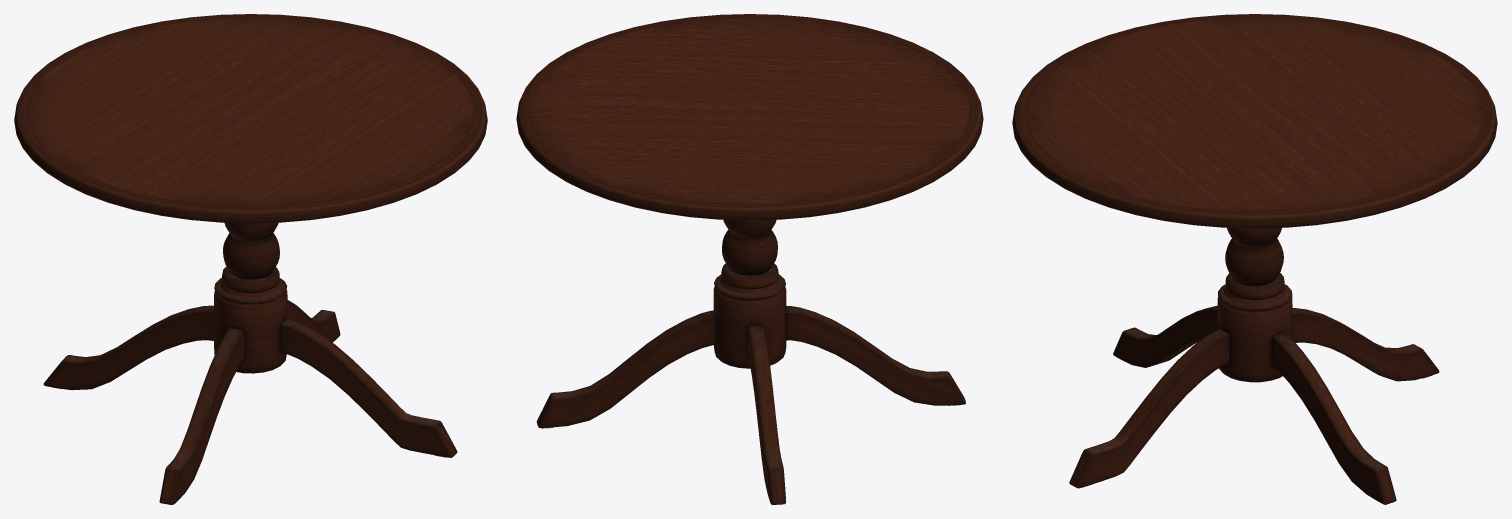
File: round_wooden_table_01_1k.gltf
3 renders of one model, left to right at view 1: azimuth 30°, elevation 25°; view 2: azimuth 150°, elevation 25°; view 3: azimuth 270°, elevation 25°, orthographic. The views are drawn at different scales.
Visible parts, largest first — view 1: round_wooden_table_01; view 2: round_wooden_table_01; view 3: round_wooden_table_01.
Boxes of the visible parts, left/top/right/bottom form: round_wooden_table_01: left=14, top=14, right=487, bottom=504; round_wooden_table_01: left=516, top=14, right=983, bottom=504; round_wooden_table_01: left=1012, top=14, right=1497, bottom=504.
Size of the model in its own units: 1.4 by 1.01 by 1.4.
Materials: 1 (1 with a texture image).
